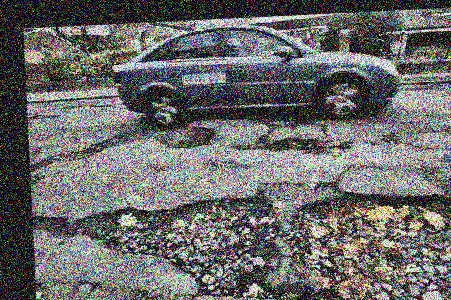pothole: (72, 175, 451, 300), (156, 122, 218, 150), (259, 134, 323, 153)
